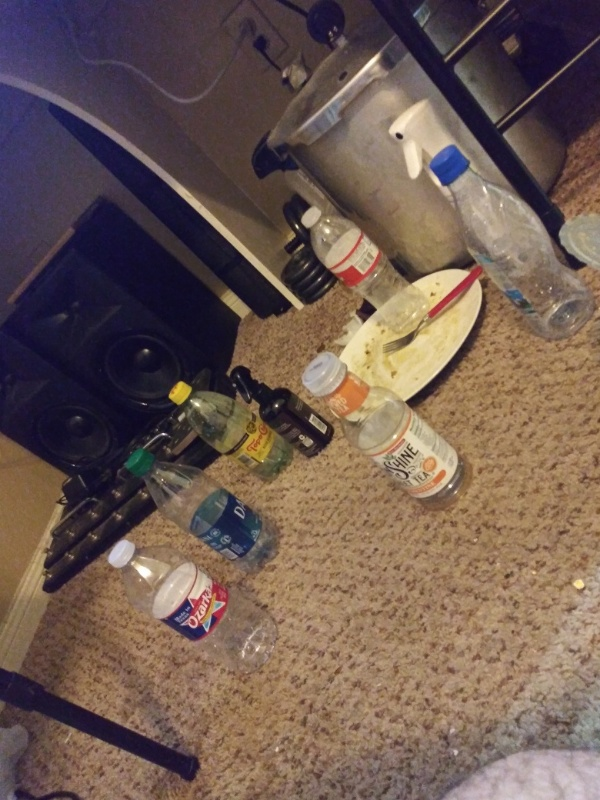bottle: (425, 141, 595, 345), (296, 349, 474, 512), (106, 539, 283, 677), (127, 444, 282, 573), (293, 203, 434, 335), (162, 378, 292, 480)
